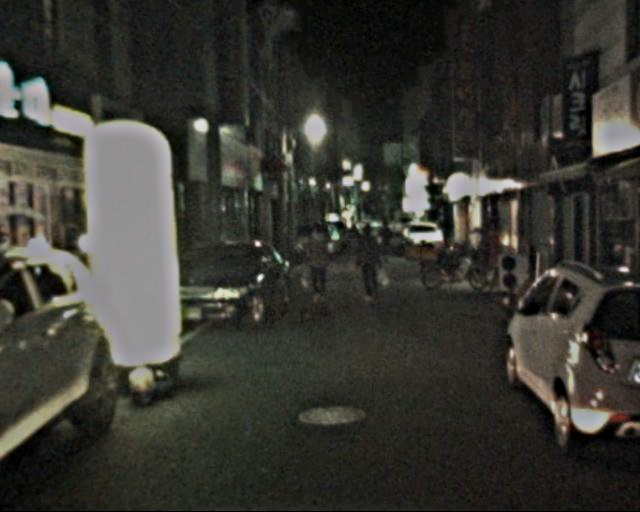person: (300, 223, 337, 309), (351, 224, 384, 304), (379, 220, 394, 257)
